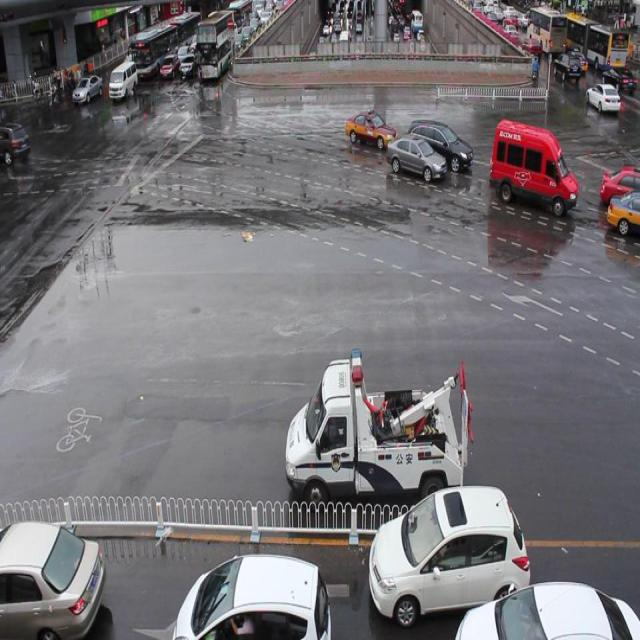bus: (285, 343, 473, 512)
car: (370, 488, 529, 624), (174, 548, 330, 640), (1, 519, 106, 640), (454, 577, 640, 640), (407, 114, 472, 169), (387, 133, 445, 179), (347, 106, 398, 148), (606, 186, 640, 237), (600, 163, 640, 206)
truck: (490, 115, 578, 213)
